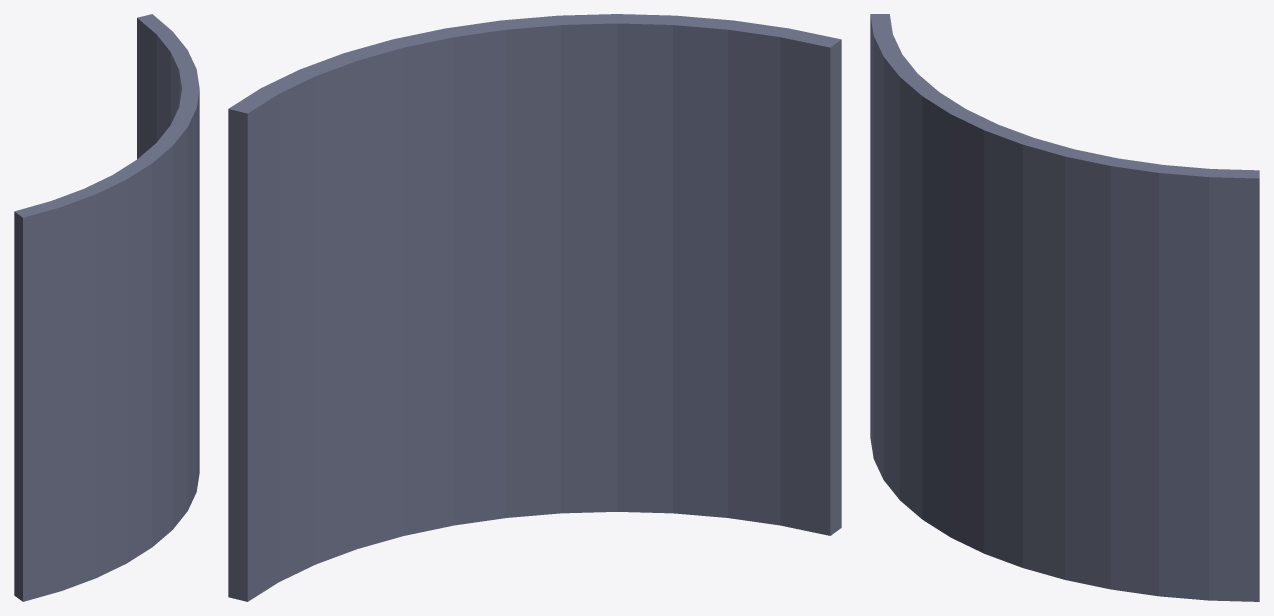
Rendered from wall-corner-round.obj.
3 renders of one model, left to right at view 1: azimuth 30°, elevation 25°; view 2: azimuth 150°, elevation 25°; view 3: azimuth 270°, elevation 25°, orthographic. The views are drawn at different scales.
Size of the model in its own units: 2 by 2.4 by 2.
